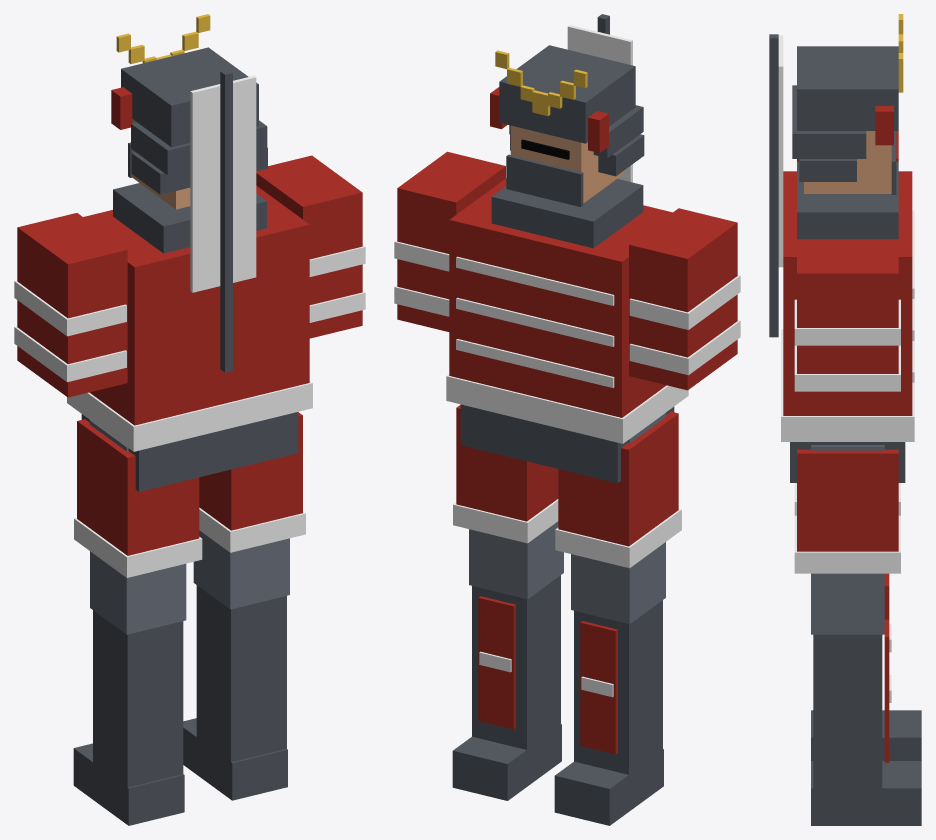
The model's file is SAMURAI.gltf.
3 renders of one model, left to right at view 1: azimuth 30°, elevation 25°; view 2: azimuth 150°, elevation 25°; view 3: azimuth 270°, elevation 25°, orthographic.
Parts seen in each view (by area): view 1: SAMURAI; view 2: SAMURAI; view 3: SAMURAI.
Part boxes in pixels (<box>): SAMURAI: <box>14,14,365,825</box>; SAMURAI: <box>394,14,740,825</box>; SAMURAI: <box>769,14,921,825</box>.
Size of the model in its own units: 0.75 by 1.79 by 0.33.
